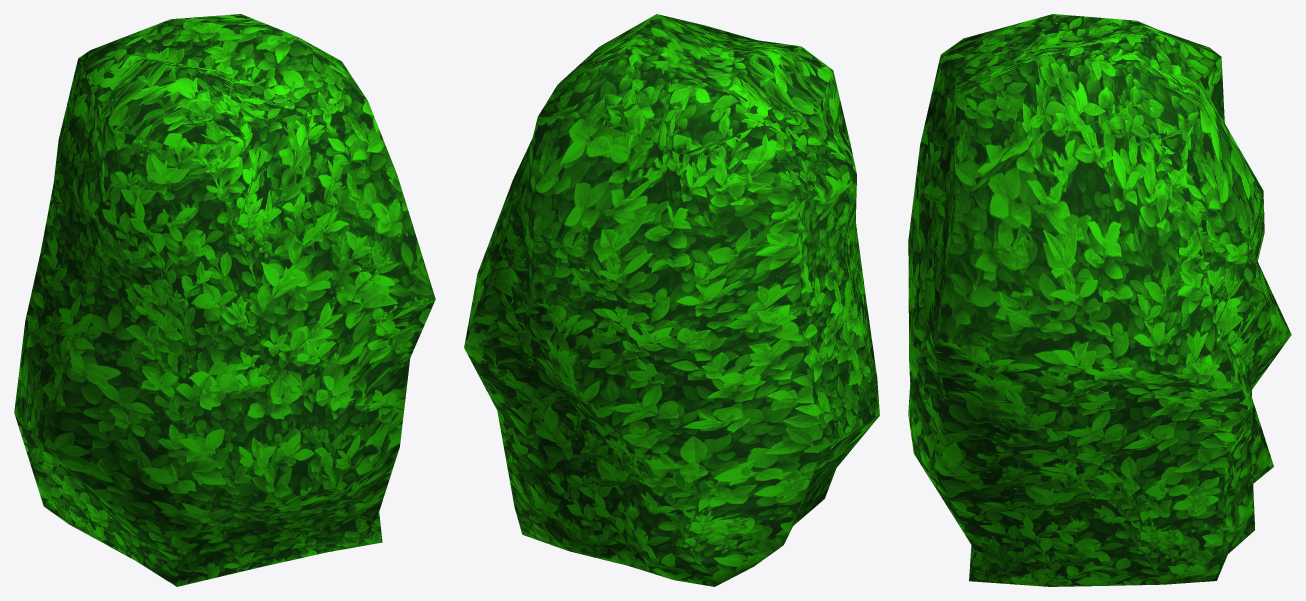
Rendered from bush1.fbx.
3 renders of one model, left to right at view 1: azimuth 30°, elevation 25°; view 2: azimuth 150°, elevation 25°; view 3: azimuth 270°, elevation 25°, orthographic. The views are drawn at different scales.
Visible parts, largest first — view 1: pCube44; view 2: pCube44; view 3: pCube44.
Part boxes in pixels (left/top/right/bottom): pCube44: left=14, top=14, right=435, bottom=586; pCube44: left=464, top=14, right=879, bottom=586; pCube44: left=908, top=14, right=1291, bottom=586.
Bounding box in the file's own units: 2.72 × 3.46 × 2.42.
